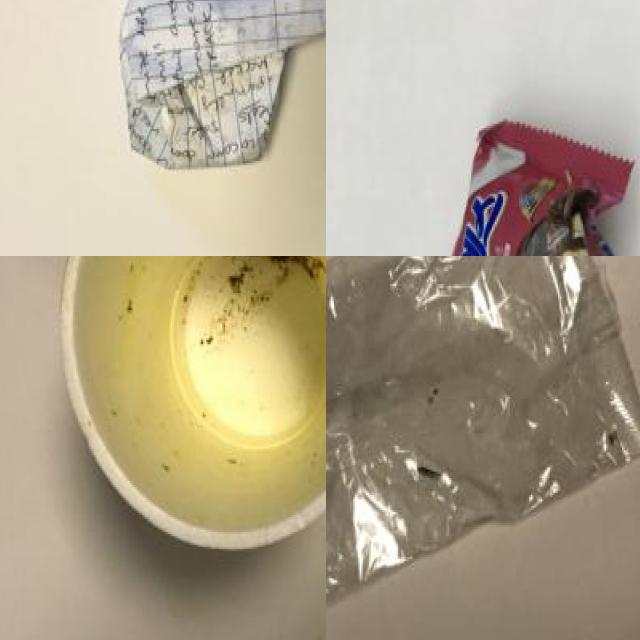paper: (118, 0, 326, 171)
trash: (326, 256, 640, 640), (35, 256, 326, 571), (409, 97, 640, 256)
